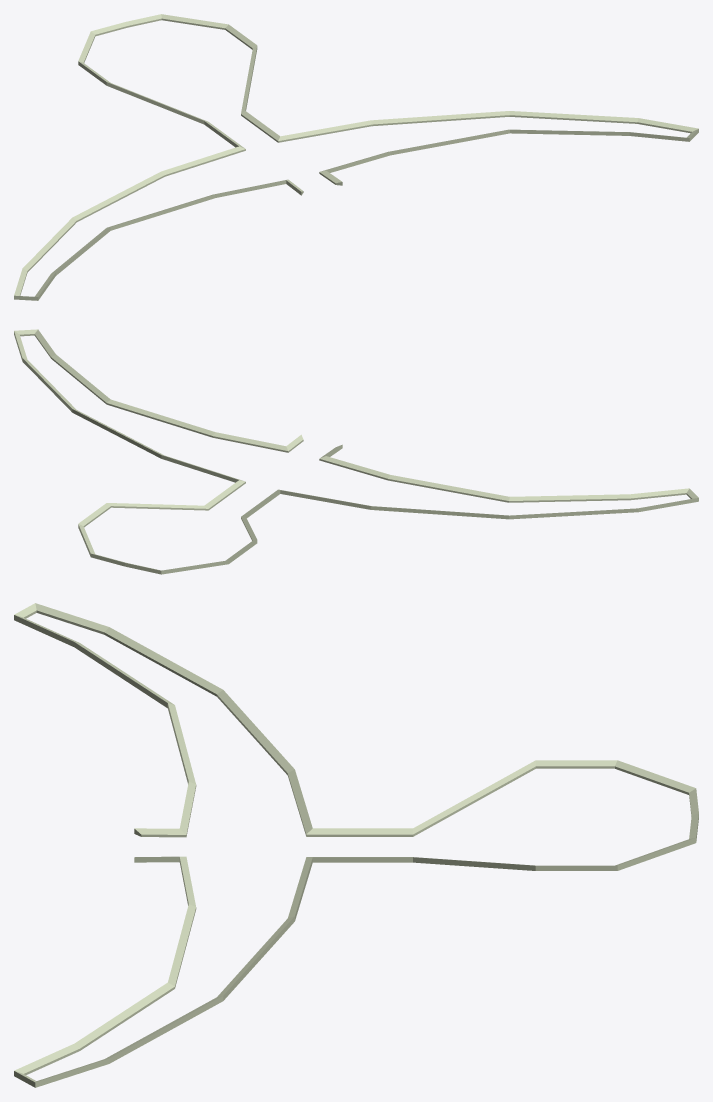
The model's file is floor_out_detail_low.fbx.
3 views of the same model, one above another, from view 1: azimuth 30°, elevation 25°; view 2: azimuth 150°, elevation 25°; view 3: azimuth 270°, elevation 25° (orthographic). The views are drawn at different scales.
Visible parts, largest first — view 1: floor_outside.002; view 2: floor_outside.002; view 3: floor_outside.002.
Boxes of the visible parts, x1=… form: floor_outside.002: x1=14, y1=14, x2=698, y2=300; floor_outside.002: x1=14, y1=329, x2=698, y2=574; floor_outside.002: x1=14, y1=603, x2=698, y2=1087.
Size of the model in its own units: 9189 by 315 by 5548.
